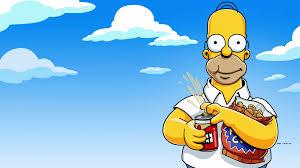Homer: (171, 0, 285, 168)
